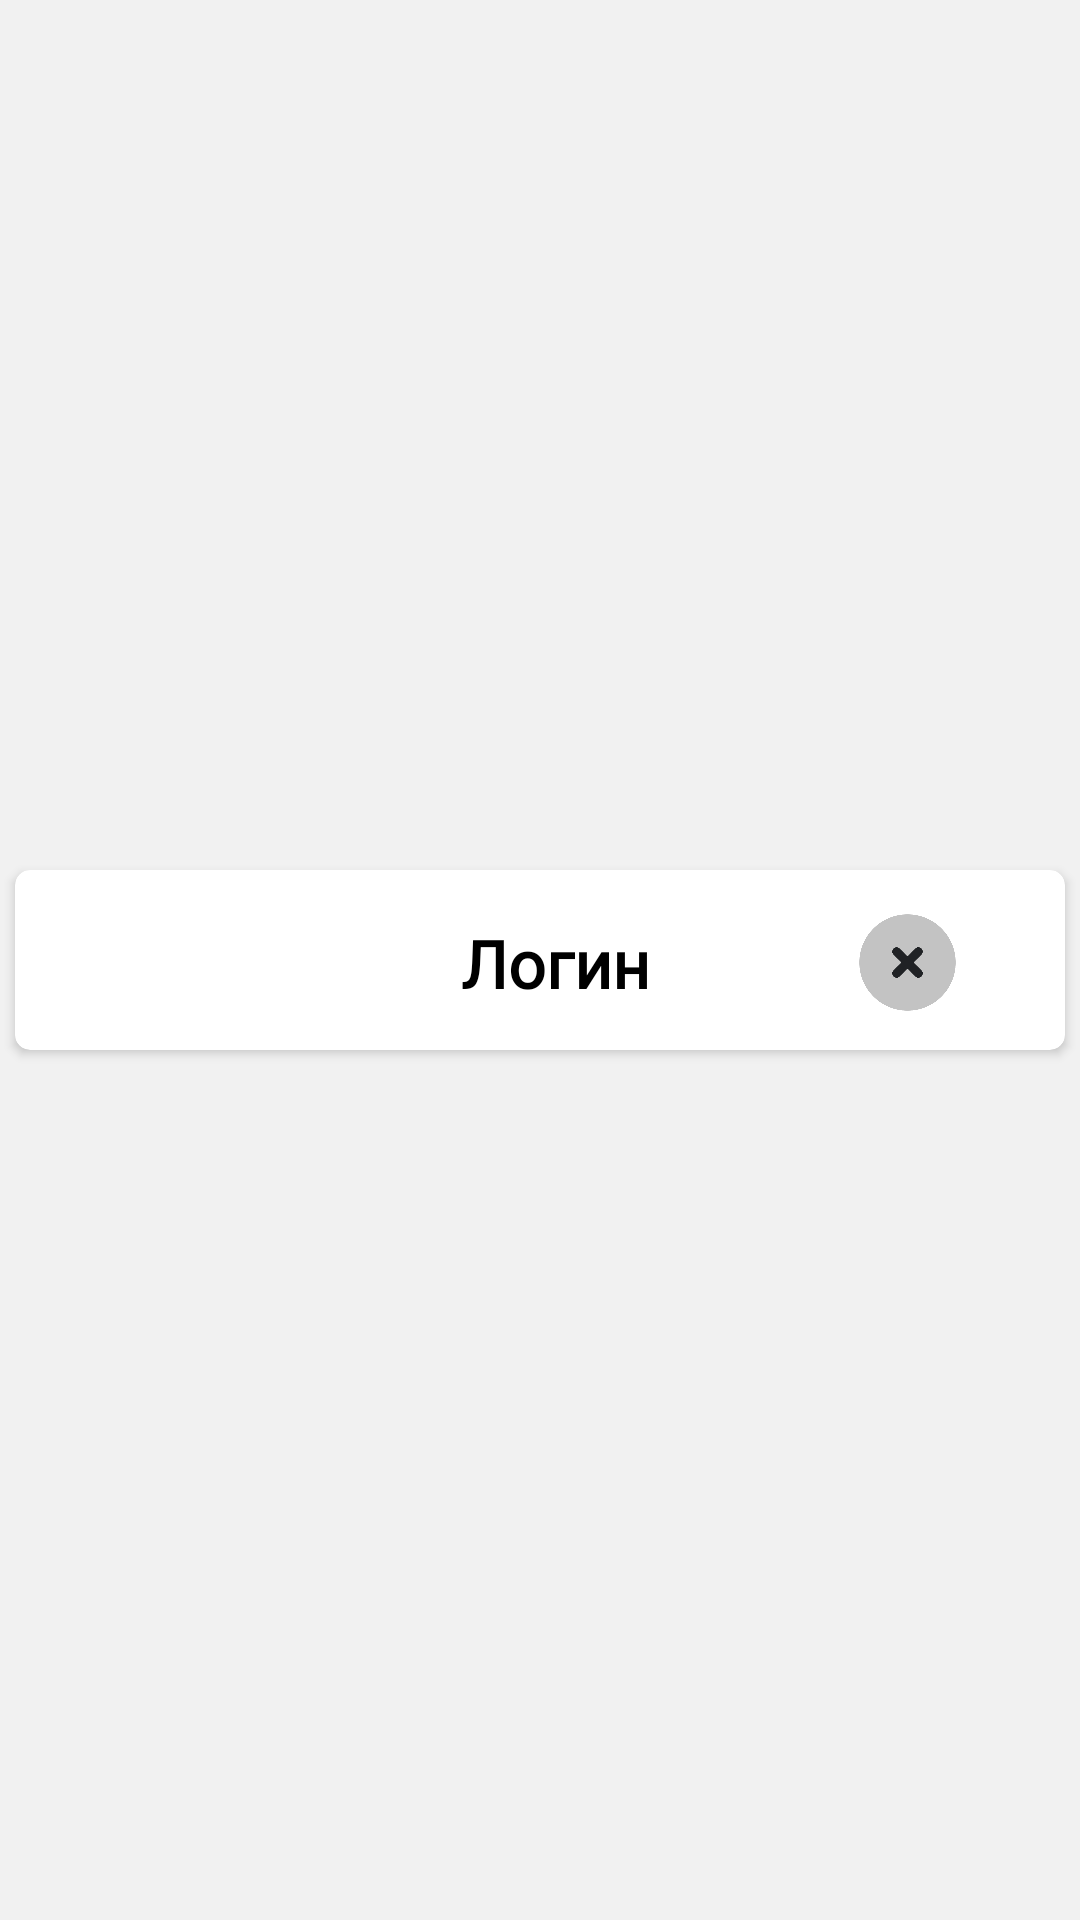

Icon click points for this 1080×1920 phone screenshot, format (x,y):
delete friends: (907,962)
